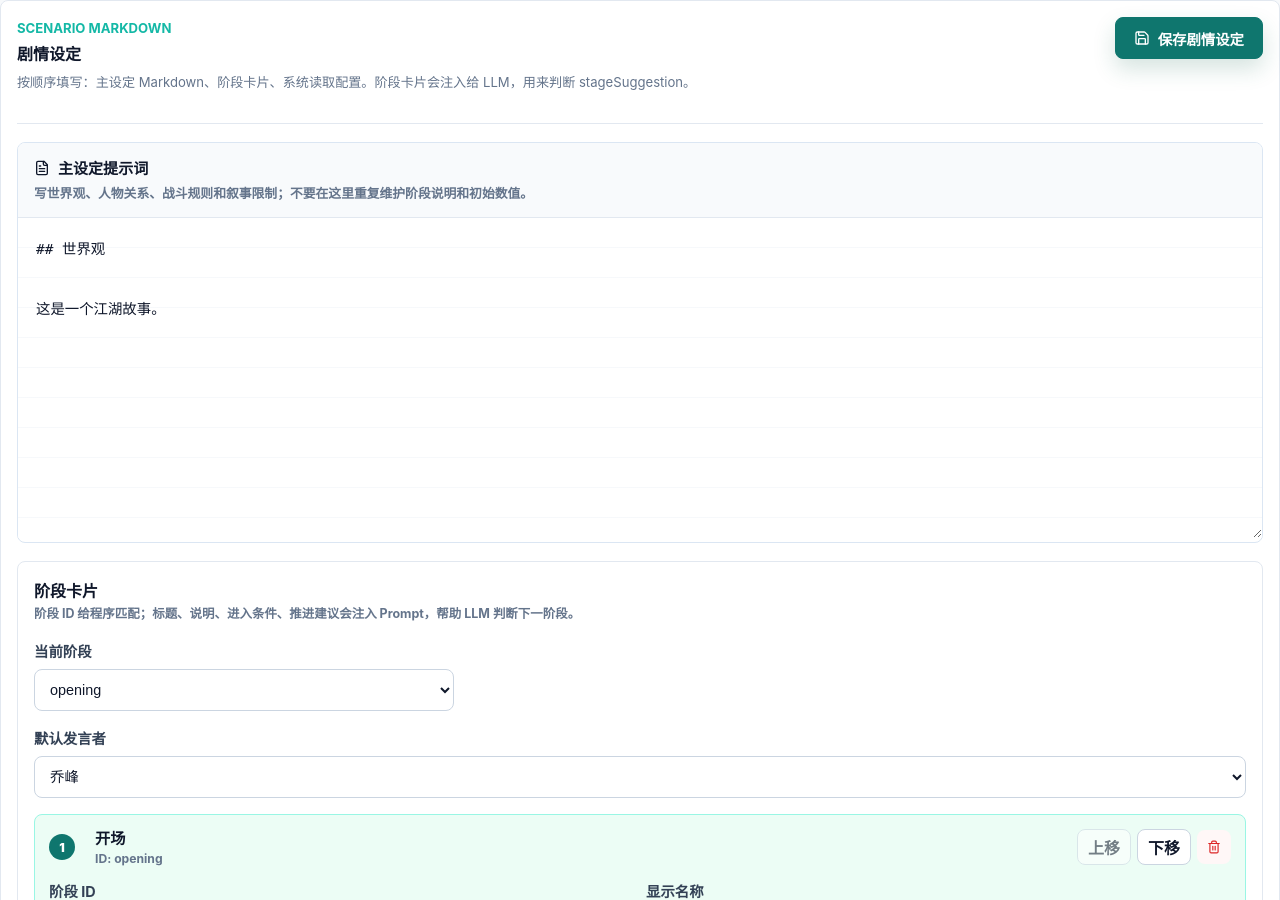
Test case: StorySettingPanel › moves a stage down
The image size is (1280, 900).
Note: Click "下移" on the first stage (index 0)
Click the button "下移" at [1164, 847], box top-left (1137, 829), bottom-right (1191, 865)
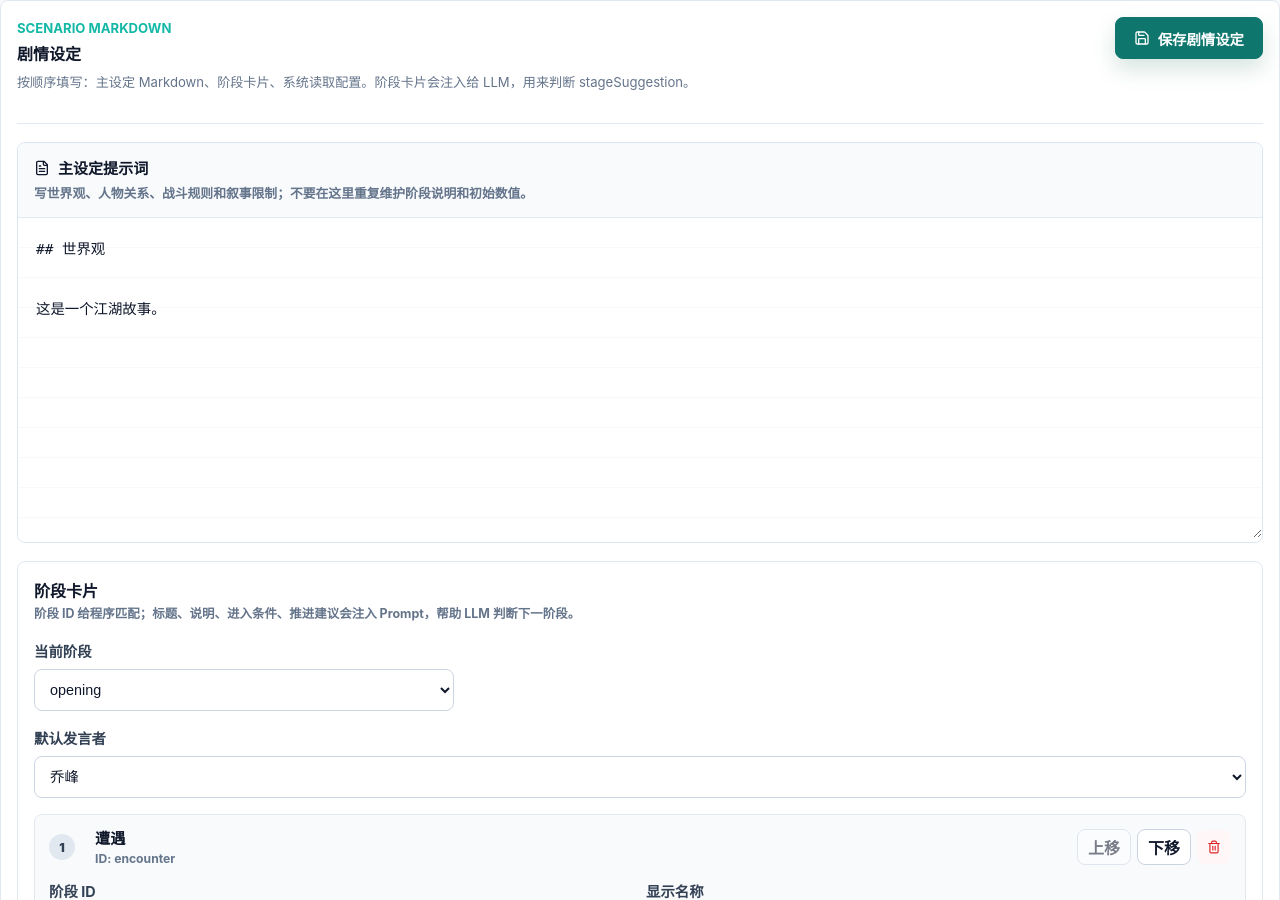
expect the text "遭遇" is shown: met, box top-left (95, 828), bottom-right (125, 848)
